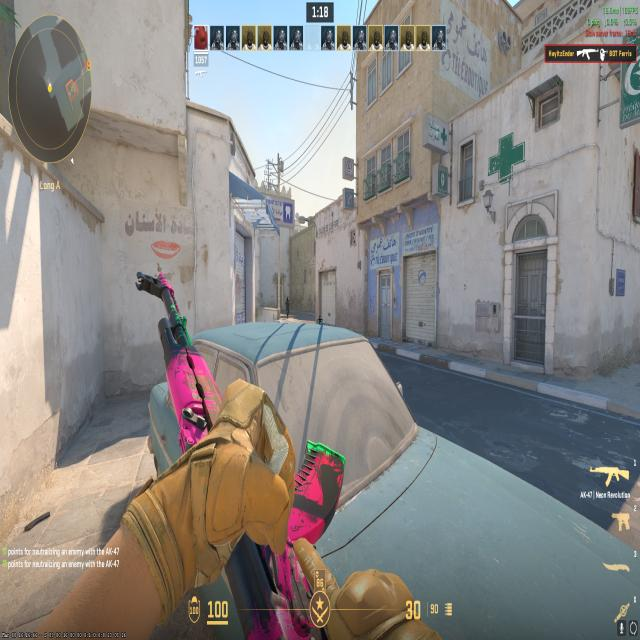ct: (284, 294, 292, 319)
